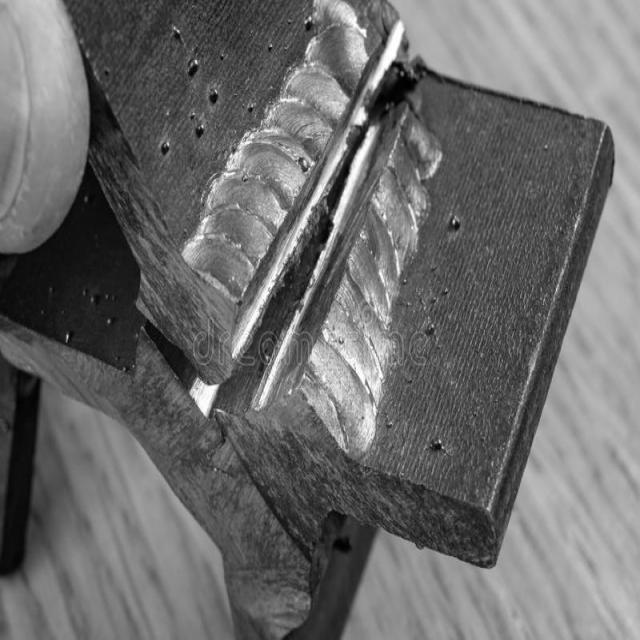Bad Weld: (212, 24, 414, 414)
